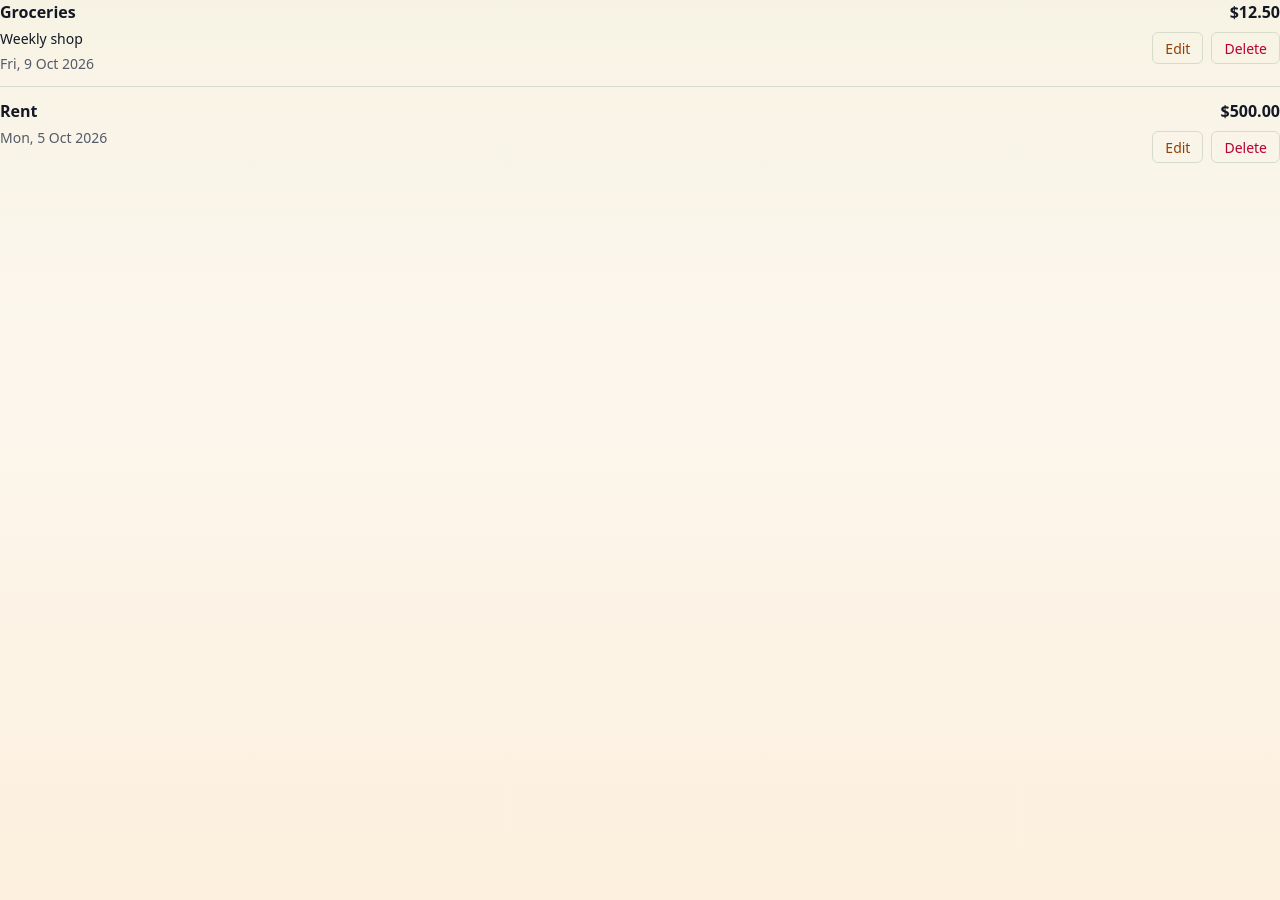
Test case: editing a transaction › opens a dialog filled in with the transaction, with focus on the amount
This screenshot has width=1280, height=900.
Click the button with aria-label "Edit Groceries, $12.50, Fri, 9 Oct 2026". click: (1178, 48)
box: [1152, 32, 1204, 64]
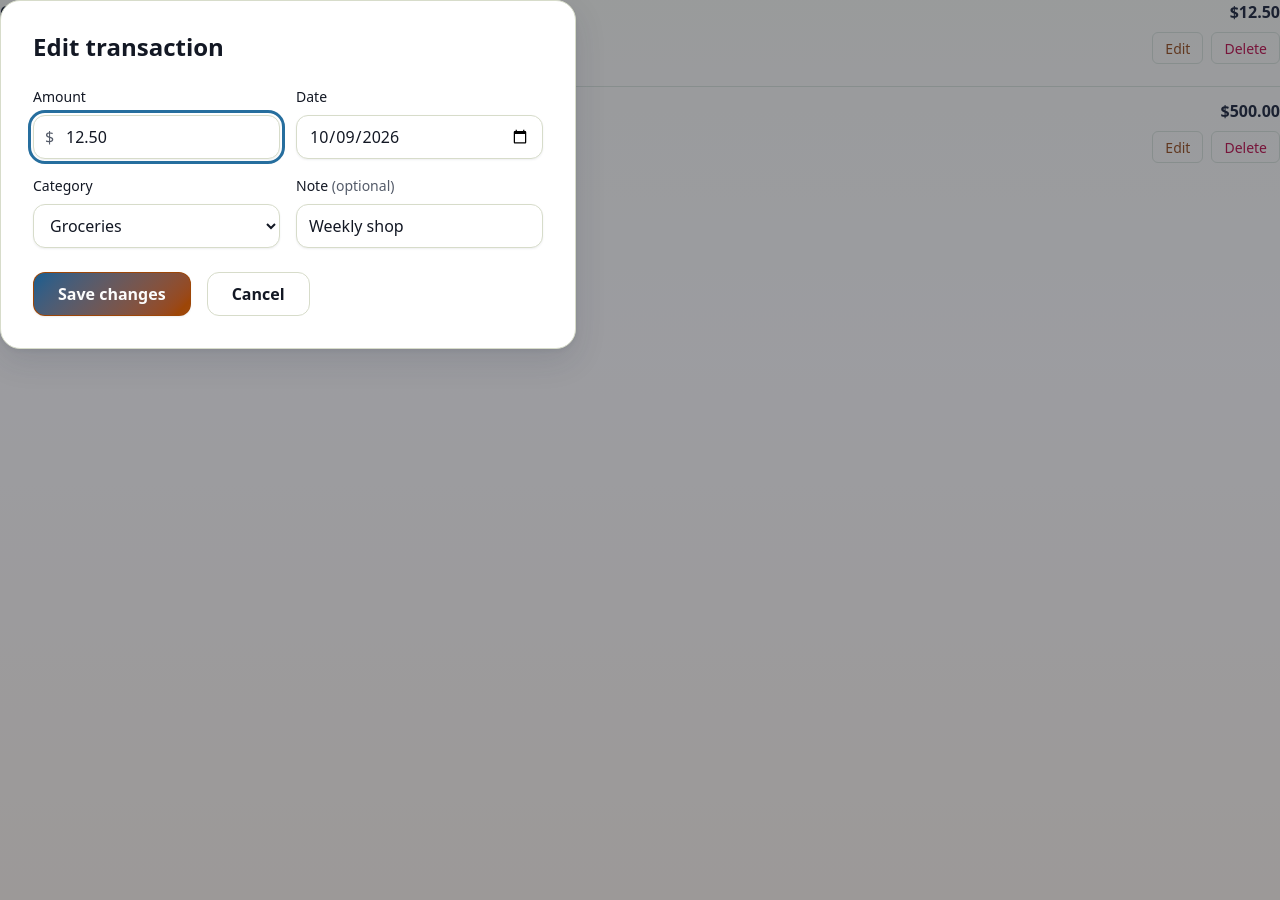
Expected: the field labelled "Amount" holds "12.50", [33, 115, 280, 159]
Expected: the date field labelled "Date" holds "2026-10-09", [296, 115, 543, 159]
Expected: the dropdown labelled "Category" shows "Groceries", [33, 204, 280, 248]
